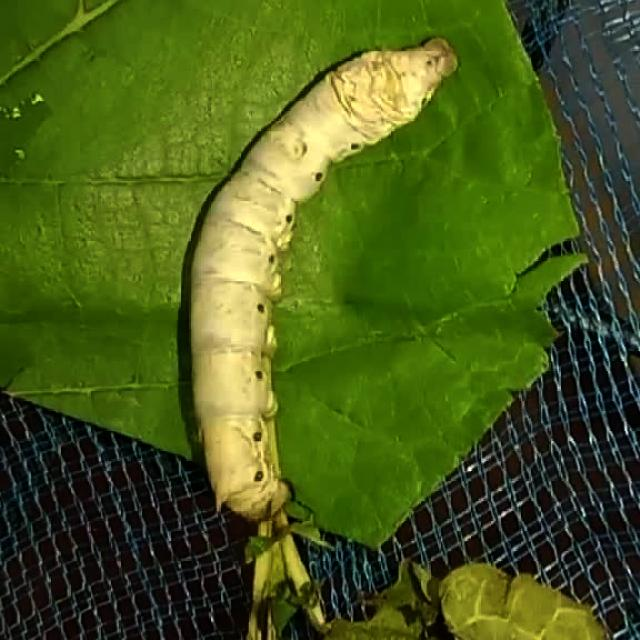Grasserie: (168, 0, 470, 546)
